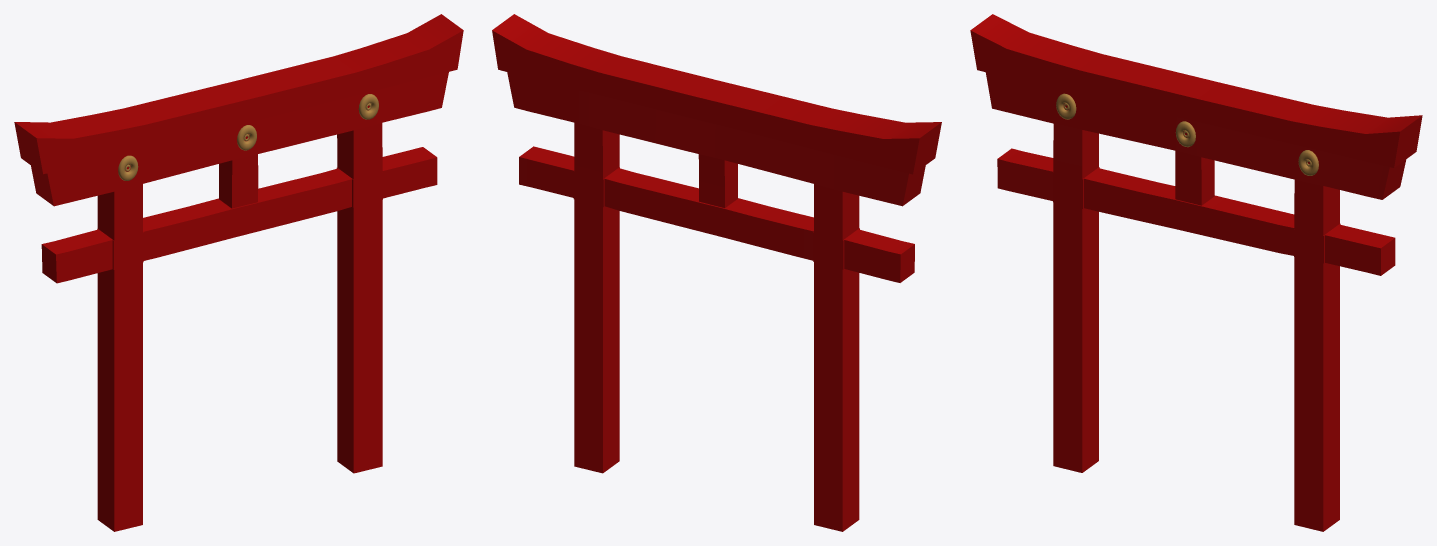
File: Japanese Archway.fbx
3 renders of one model, left to right at view 1: azimuth 30°, elevation 25°; view 2: azimuth 150°, elevation 25°; view 3: azimuth 330°, elevation 25°, orthographic.
Visible parts, largest first — view 1: pCube10; view 2: pCube10; view 3: pCube10.
Part boxes in pixels (x1=…): pCube10: x1=14, y1=14, x2=463, y2=531; pCube10: x1=492, y1=14, x2=941, y2=531; pCube10: x1=970, y1=14, x2=1422, y2=531.
Bounding box in the file's own units: 23.06 × 21.6 × 2.08.
